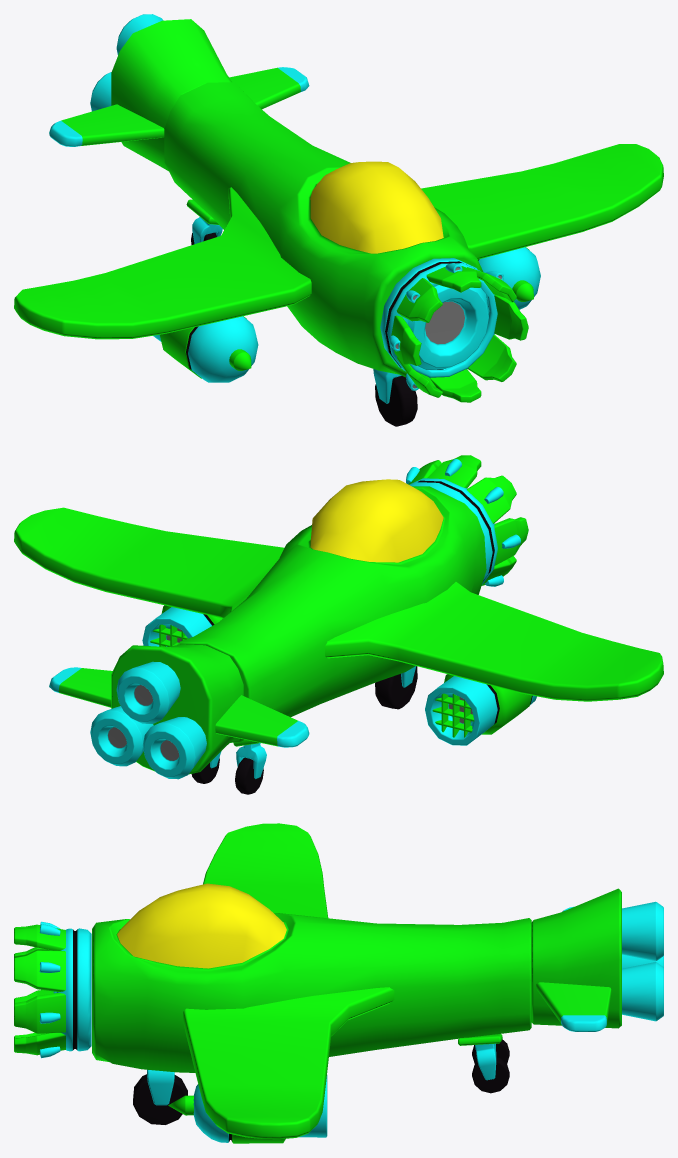
3 views of the same model, one above another, from view 1: azimuth 30°, elevation 25°; view 2: azimuth 150°, elevation 25°; view 3: azimuth 270°, elevation 25° (orthographic). The views are drawn at different scales.
Visible parts, largest first — view 1: Body6, Wing6_R, Wing6_L, Propeller6, Fin6, Spurt6_R, Spurt06_L, Body6_A, Body6_B; view 2: Body6, Wing6_R, Fin6, Wing6_L, Propeller6, Spurt6_R, Spurt06_L, Body6_B, Body6_A; view 3: Body6, Wing6_L, Fin6, Propeller6, Wing6_R, Body6_A, Spurt06_L, Body6_C.
Boxes of the visible parts, x1=… form: Body6: x1=164, y1=82, x2=483, y2=377; Wing6_R: x1=14, y1=187, x2=311, y2=339; Wing6_L: x1=421, y1=144, x2=663, y2=259; Propeller6: x1=380, y1=258, x2=528, y2=402; Fin6: x1=49, y1=14, x2=309, y2=171; Spurt6_R: x1=153, y1=316, x2=258, y2=382; Spurt06_L: x1=478, y1=247, x2=540, y2=309; Body6_A: x1=373, y1=369, x2=417, y2=426; Body6_B: x1=186, y1=199, x2=222, y2=244; Body6: x1=177, y1=479, x2=486, y2=742; Wing6_R: x1=325, y1=582, x2=663, y2=701; Fin6: x1=49, y1=644, x2=309, y2=779; Wing6_L: x1=14, y1=507, x2=284, y2=618; Propeller6: x1=406, y1=455, x2=528, y2=586; Spurt6_R: x1=425, y1=674, x2=536, y2=745; Spurt06_L: x1=142, y1=605, x2=222, y2=646; Body6_B: x1=233, y1=739, x2=266, y2=794; Body6_A: x1=375, y1=666, x2=417, y2=709; Body6: x1=92, y1=883, x2=531, y2=1072; Wing6_L: x1=183, y1=987, x2=394, y2=1139; Fin6: x1=531, y1=888, x2=663, y2=1031; Propeller6: x1=14, y1=921, x2=91, y2=1058; Wing6_R: x1=203, y1=823, x2=328, y2=918; Body6_A: x1=133, y1=1069, x2=187, y2=1124; Spurt06_L: x1=168, y1=1075, x2=327, y2=1143; Body6_C: x1=458, y1=1034, x2=509, y2=1093.
Size of the model in its own units: 17.82 by 6.41 by 16.22.
